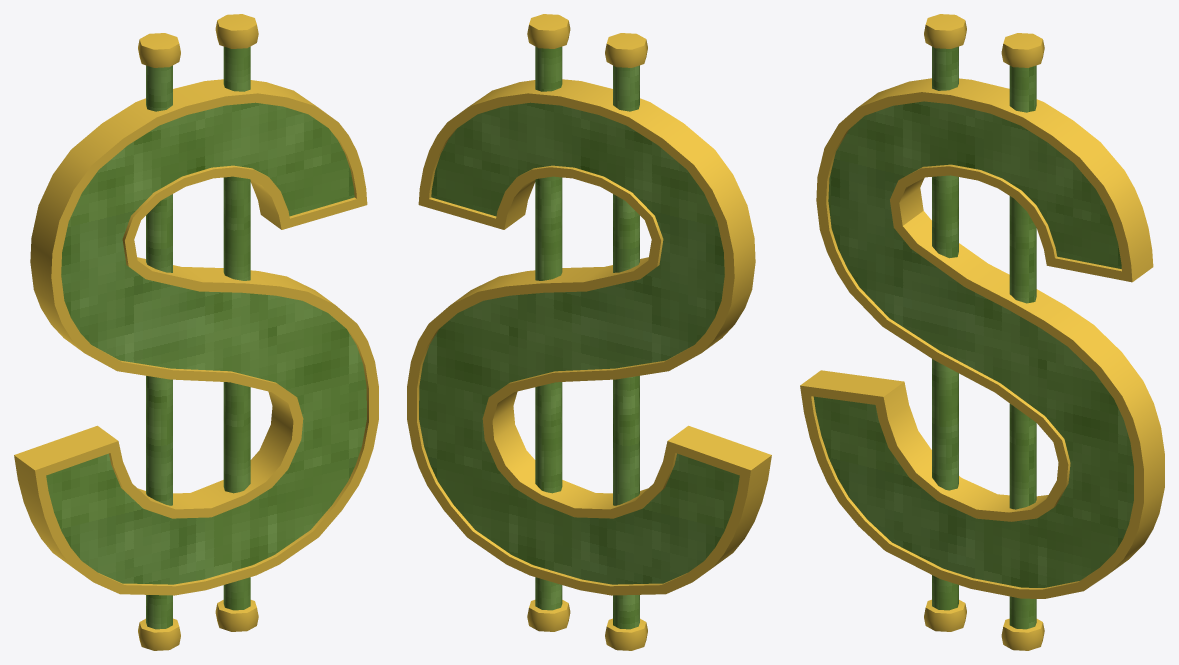
File: bonus_points.glb
3 views of the same model, side by side, from view 1: azimuth 30°, elevation 25°; view 2: azimuth 150°, elevation 25°; view 3: azimuth 330°, elevation 25° (orthographic).
Visible parts, largest first — view 1: S, S_outline, II, II_buttons; view 2: S, S_outline, II, II_buttons; view 3: S, S_outline, II, II_buttons.
Part boxes in pixels (x1=…): S: x1=46, y1=102, x2=366, y2=584; S_outline: x1=14, y1=79, x2=378, y2=595; II: x1=146, y1=46, x2=250, y2=629; II_buttons: x1=138, y1=14, x2=258, y2=650; S: x1=419, y1=102, x2=739, y2=584; S_outline: x1=407, y1=79, x2=771, y2=595; II: x1=535, y1=46, x2=639, y2=629; II_buttons: x1=527, y1=14, x2=647, y2=650; S: x1=813, y1=101, x2=1133, y2=587; S_outline: x1=800, y1=78, x2=1164, y2=598; II: x1=932, y1=46, x2=1036, y2=629; II_buttons: x1=924, y1=14, x2=1044, y2=650.
Size of the model in its own units: 0.3841 by 0.6429 by 0.0433.
2 materials, 2 textured.
